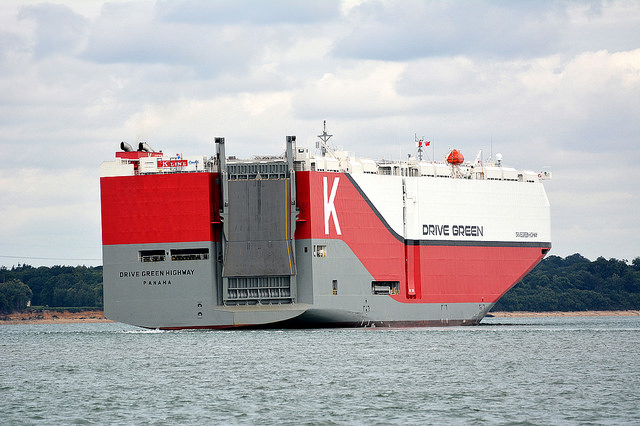PCC: (93, 132, 550, 327)
